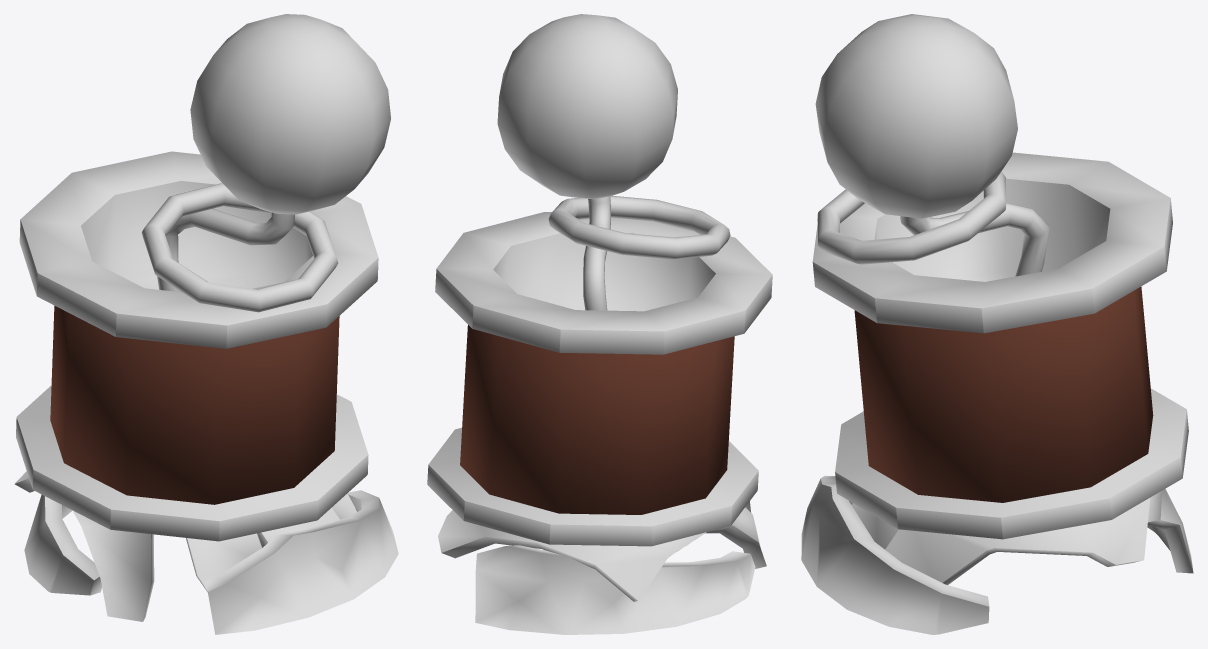
Rendered from LightningBox2.fbx.
3 views of the same model, side by side, from view 1: azimuth 30°, elevation 25°; view 2: azimuth 150°, elevation 25°; view 3: azimuth 270°, elevation 25° (orthographic). The views are drawn at different scales.
Visible parts, largest first — view 1: electricenemey.002; view 2: electricenemey.002; view 3: electricenemey.002.
Boxes of the visible parts, x1,y1,x2,y2 form: electricenemey.002: (14,14,398,634); electricenemey.002: (427,14,772,634); electricenemey.002: (801,14,1193,634).
Size of the model in its own units: 222 by 358 by 227.
